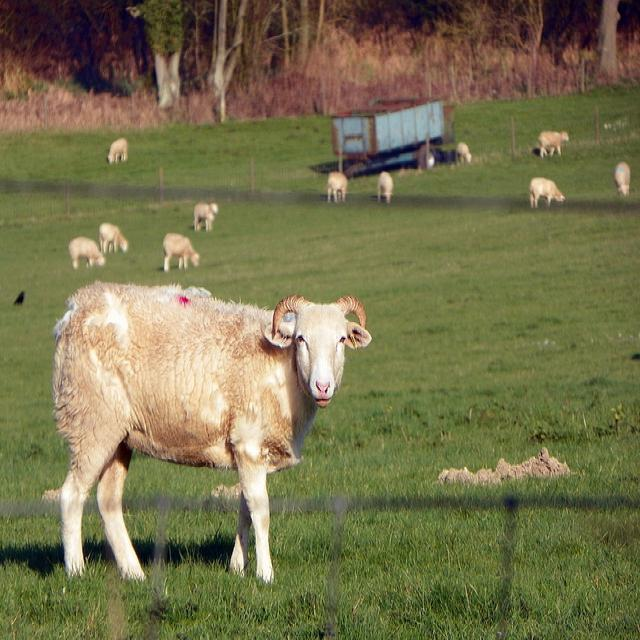Vehicle: (326, 94, 458, 173)
